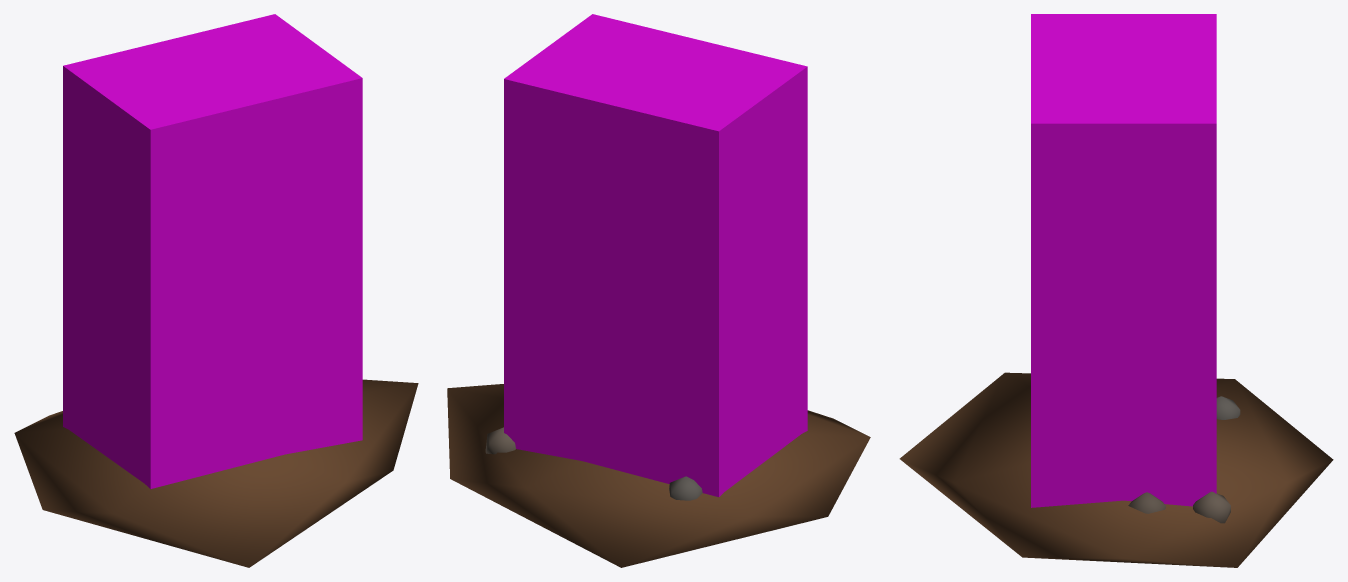
The model's file is PRP_Marker_Stone_A.glb.
3 renders of one model, left to right at view 1: azimuth 30°, elevation 25°; view 2: azimuth 150°, elevation 25°; view 3: azimuth 270°, elevation 25°, orthographic. The views are drawn at different scales.
Visible parts, largest first — view 1: COL_Stone, PRP_Marker_Stone_A_Mesh; view 2: COL_Stone, PRP_Marker_Stone_A_Mesh; view 3: COL_Stone, PRP_Marker_Stone_A_Mesh.
Boxes of the visible parts, box(x1,y1,x2,y2) form: COL_Stone: box(63, 14, 362, 488); PRP_Marker_Stone_A_Mesh: box(14, 379, 418, 567); COL_Stone: box(504, 14, 807, 497); PRP_Marker_Stone_A_Mesh: box(447, 384, 870, 567); COL_Stone: box(1031, 14, 1216, 507); PRP_Marker_Stone_A_Mesh: box(899, 372, 1333, 567).
Size of the model in its own units: 1.24 by 1.31 by 1.17.
